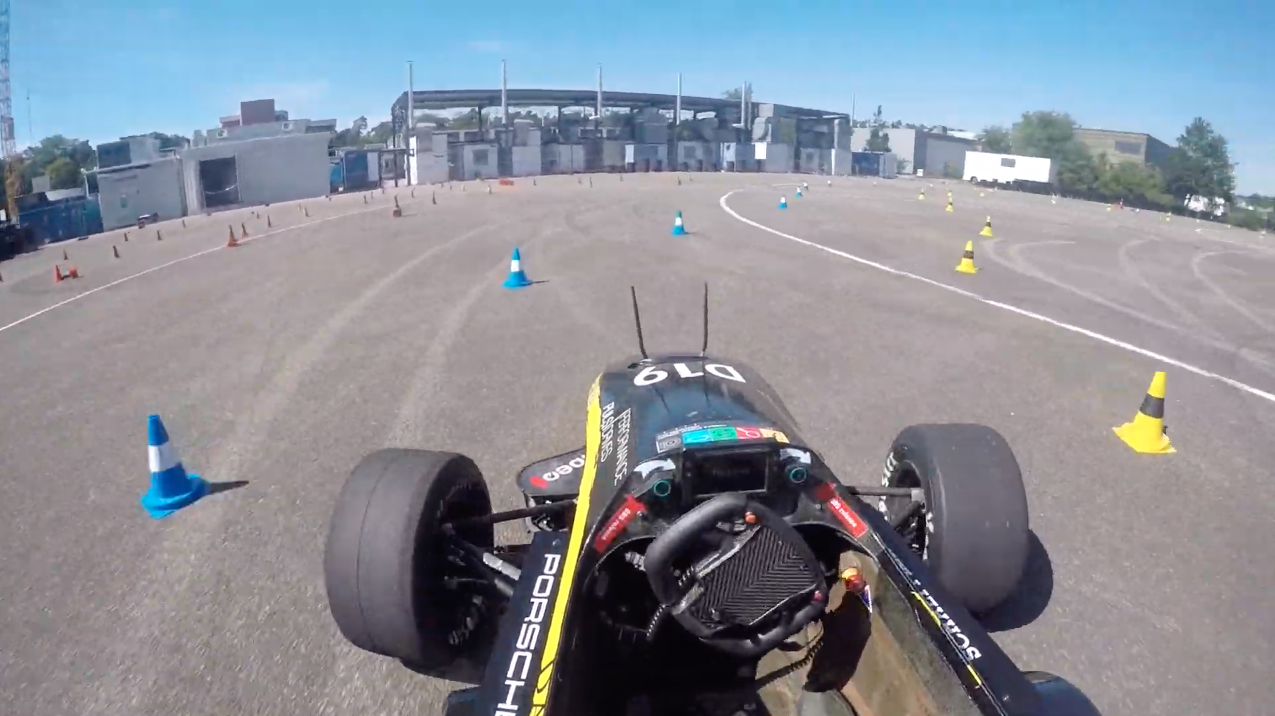lcone: (132, 411, 214, 522), (498, 243, 536, 293), (668, 206, 693, 240)
rcone: (1110, 364, 1183, 457), (953, 239, 983, 276)
